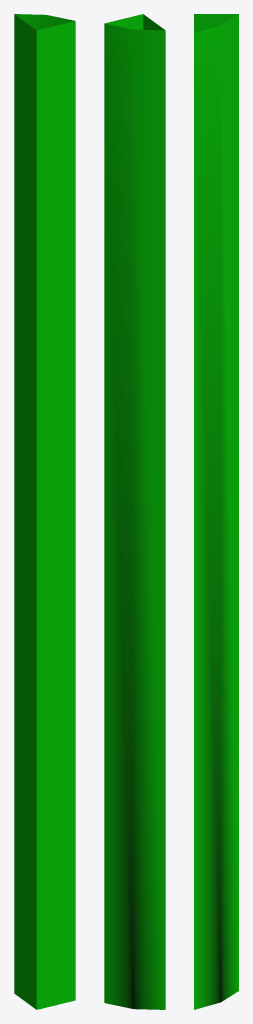
Rendered from FlatSideColumn.fbx.
The picture shows the model from 3 angles, left to right: view 1: azimuth 30°, elevation 25°; view 2: azimuth 210°, elevation 25°; view 3: azimuth 270°, elevation 25°; orthographic projection.
Parts seen in each view (by area): view 1: FlatSideColumn; view 2: FlatSideColumn; view 3: FlatSideColumn.
Boxes of the visible parts, x1,y1,x2,y2 form: FlatSideColumn: [14, 14, 75, 1009]; FlatSideColumn: [104, 14, 165, 1009]; FlatSideColumn: [194, 14, 238, 1009].
Size of the model in its own units: 25 by 600 by 25.
